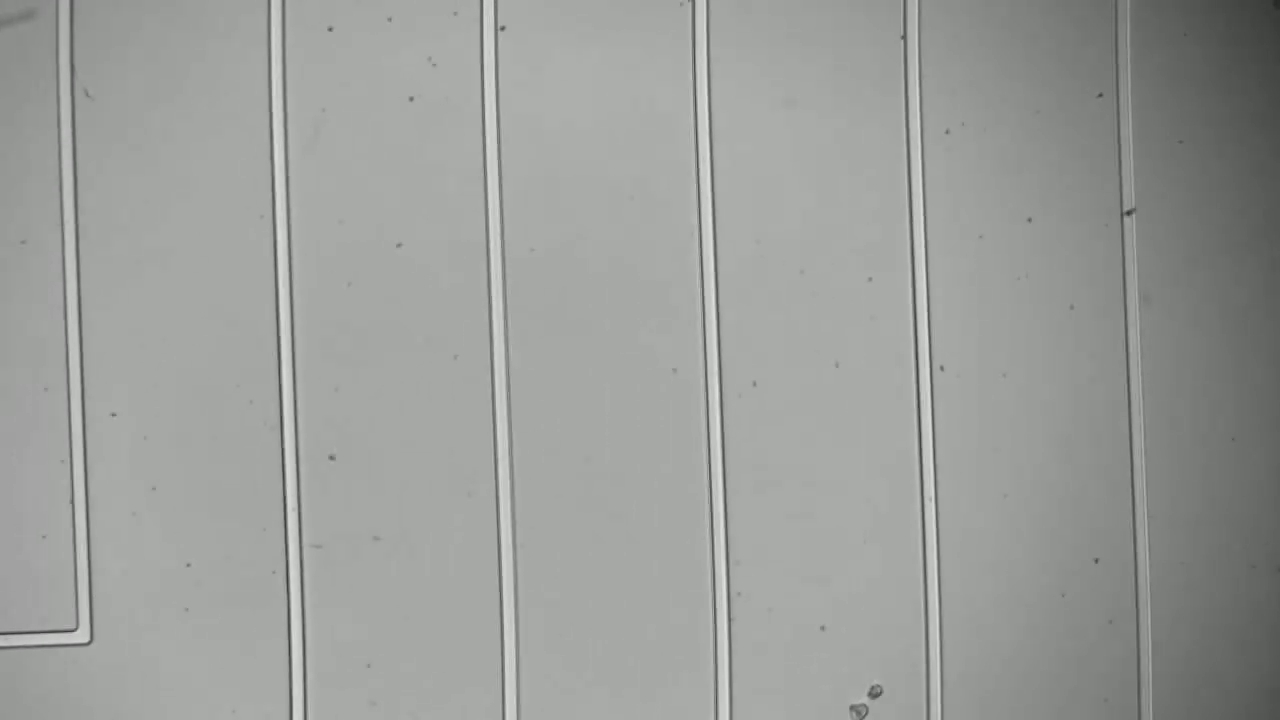stains_enbedded: (1117, 200, 1143, 222)
